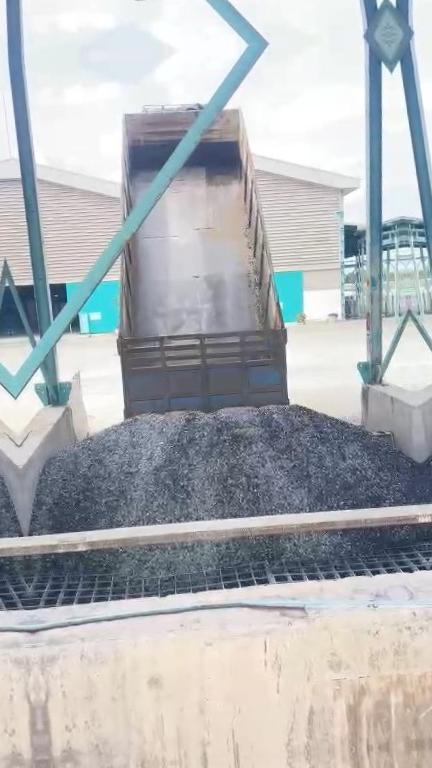gravel: (31, 406, 424, 535), (28, 527, 427, 581)
